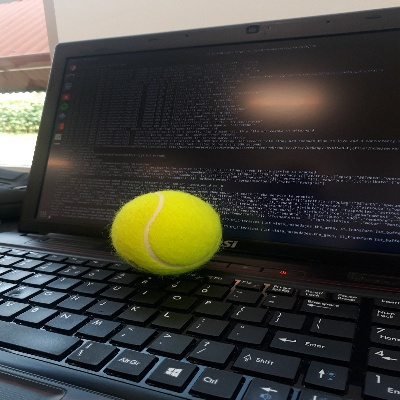Ball: (109, 189, 223, 275)
